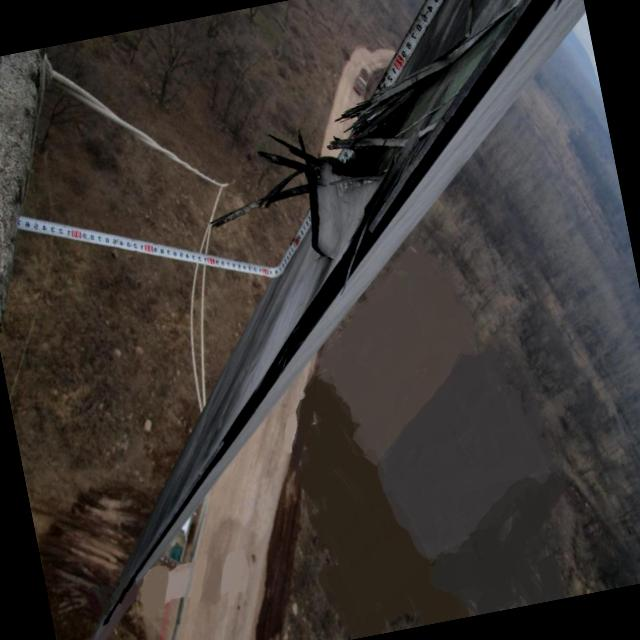crack: (245, 0, 568, 277), (192, 321, 334, 462)
